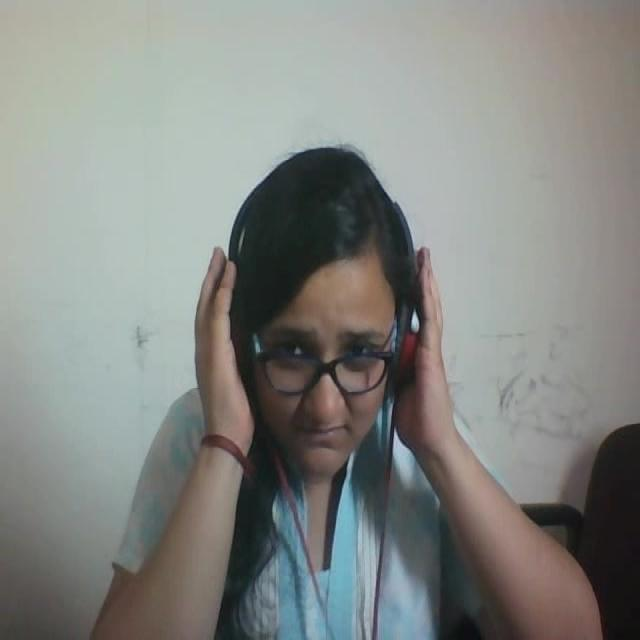Bored: (204, 132, 452, 507)
